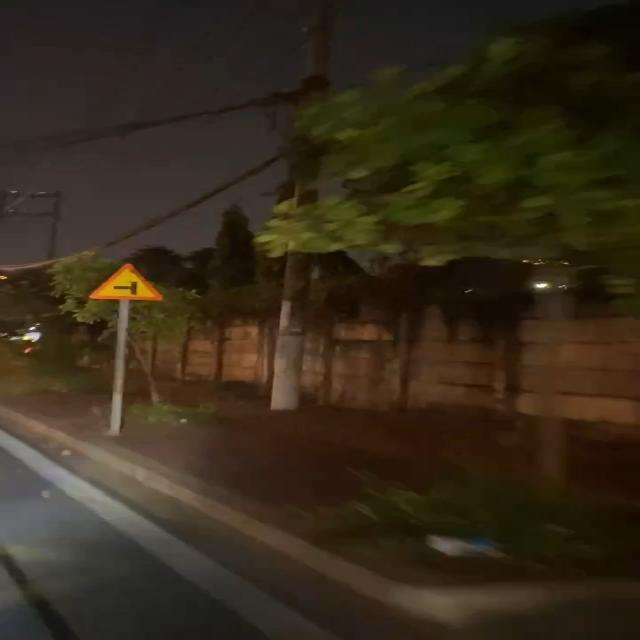205-duong-giao-nhau: (86, 263, 164, 303)
